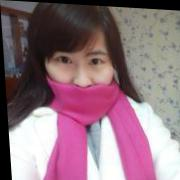WRONG: (43, 36, 115, 116)
